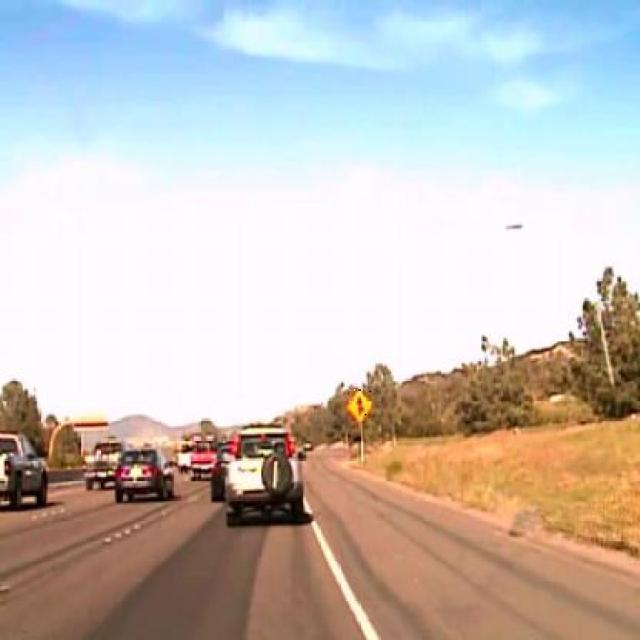merge: (346, 386, 373, 423)
